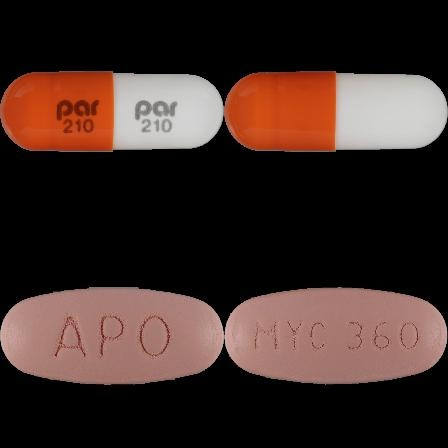68084-917: (0, 0, 224, 224)
